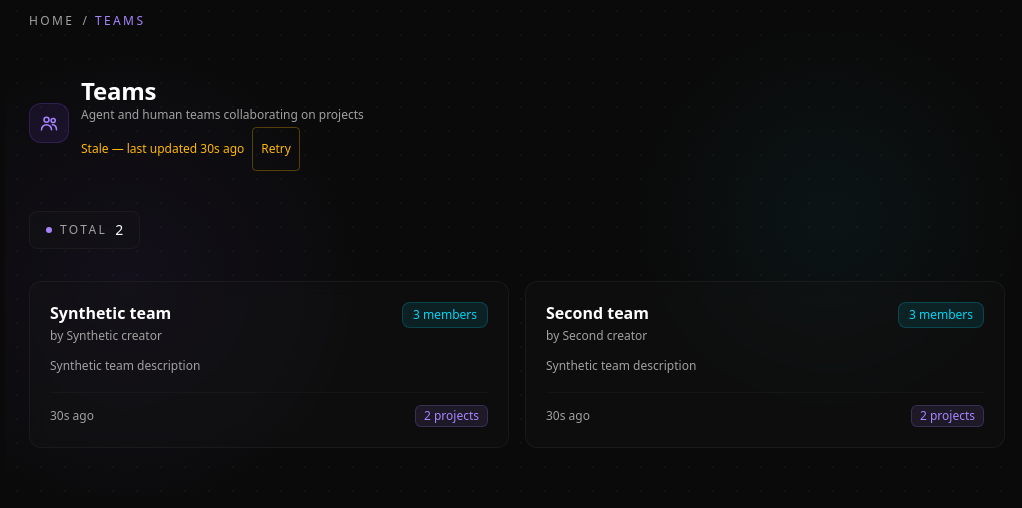
TL.HTTP stale http poll in en retains cards and last success until Retry recovers
expect the message shows "Stale — last updated": met, box x1=81 y1=140 x2=197 y2=157
expect the message shows "30": met, box x1=81 y1=127 x2=300 y2=171
Step 1. Click the button "Retry" → (276, 149), box x1=252 y1=127 x2=300 y2=171
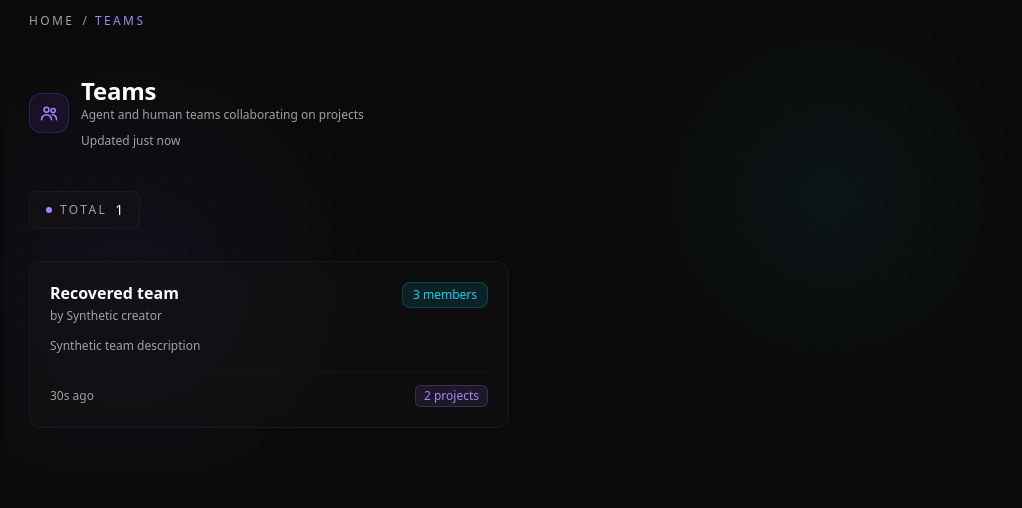
expect the message "Stale — last updated 30s ago Retry" is gone: met
